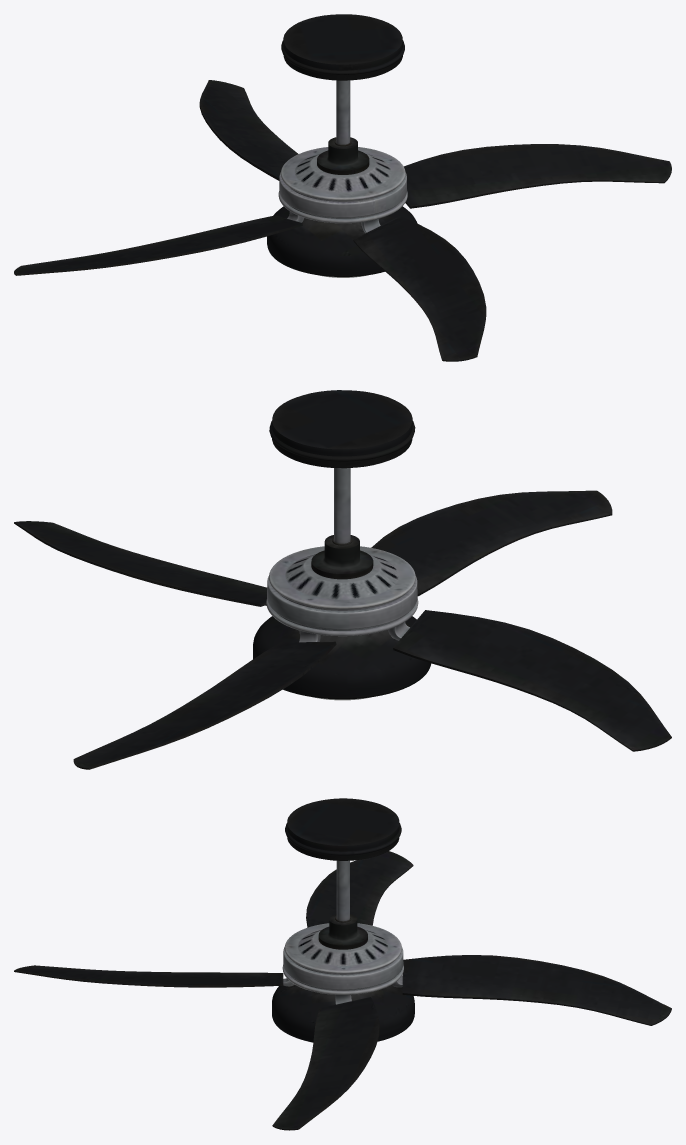
File: ceiling_fan.glb
The picture shows the model from 3 angles, top to bottom: view 1: azimuth 30°, elevation 25°; view 2: azimuth 150°, elevation 25°; view 3: azimuth 270°, elevation 25°; orthographic projection. The views are drawn at different scales.
Visible parts, largest first — view 1: ceiling_fan_blades, ceiling_fan; view 2: ceiling_fan_blades, ceiling_fan; view 3: ceiling_fan_blades, ceiling_fan.
Boxes of the visible parts, x1,y1,x2,y2 form: ceiling_fan_blades: (14,80,671,361); ceiling_fan: (267,14,417,277); ceiling_fan_blades: (14,490,671,769); ceiling_fan: (253,390,431,700); ceiling_fan_blades: (14,851,671,1130); ceiling_fan: (272,798,414,1042).
Size of the model in its own units: 1.46 by 0.5163 by 1.46.
1 material, 1 textured.
